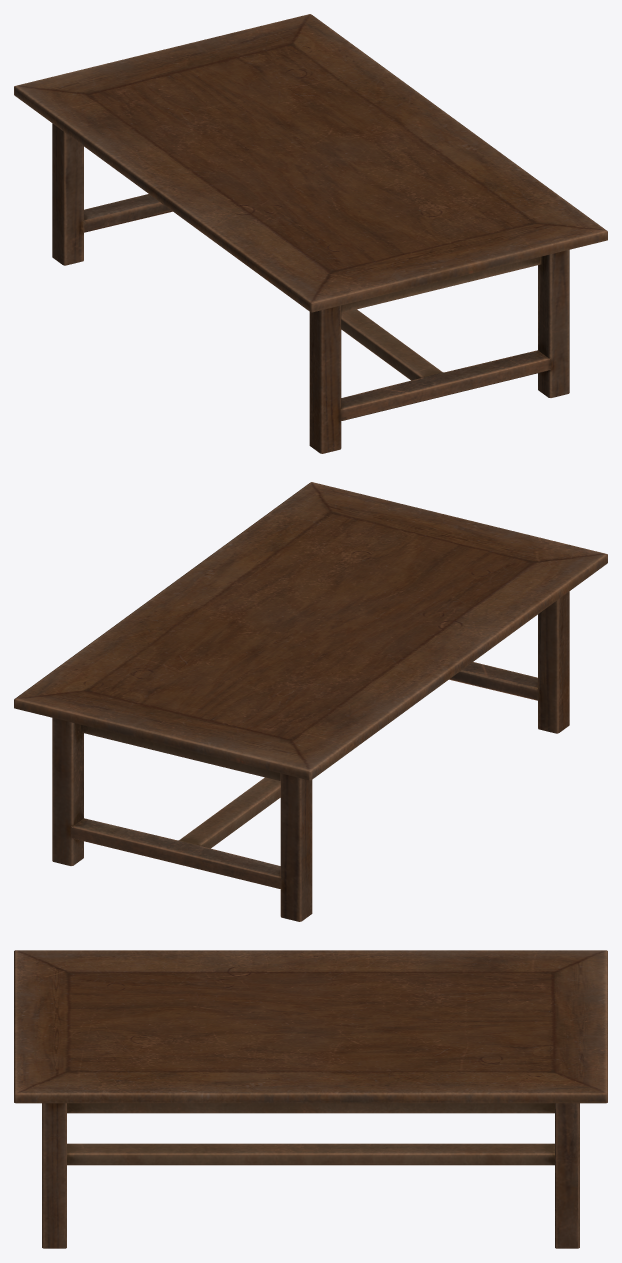
Rendered from table.glb.
3 views of the same model, one above another, from view 1: azimuth 30°, elevation 25°; view 2: azimuth 150°, elevation 25°; view 3: azimuth 270°, elevation 25° (orthographic).
Visible parts, largest first — view 1: largetable_lowpoly; view 2: largetable_lowpoly; view 3: largetable_lowpoly.
Part boxes in pixels (x1,y1,x2,y2): largetable_lowpoly: (14, 14, 607, 453); largetable_lowpoly: (14, 482, 607, 921); largetable_lowpoly: (14, 950, 607, 1248).
Size of the model in its own units: 0.0717 by 0.0385 by 0.1245.
Materials: 1 (1 with a texture image).
